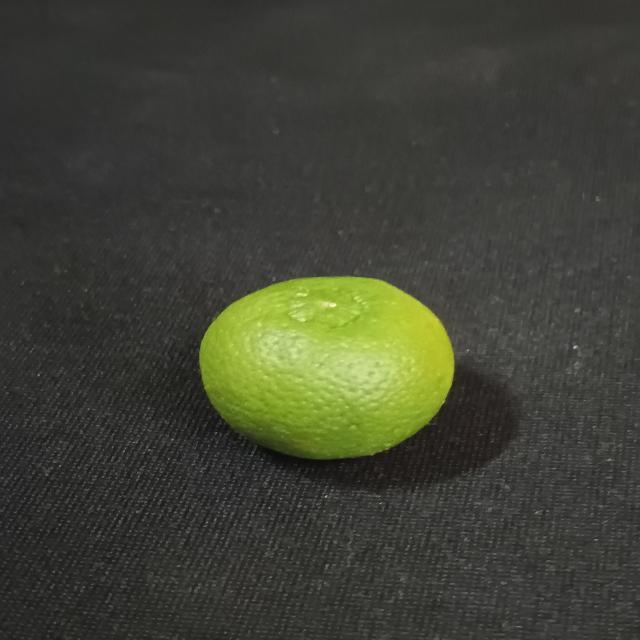heathy: (198, 270, 460, 459)
